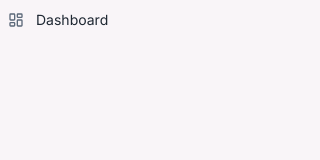
Test: SidebarNavItem › navigates on click and shows loading state
Click the menu item "Dashboard" at (58, 20), box [8,11,108,28]
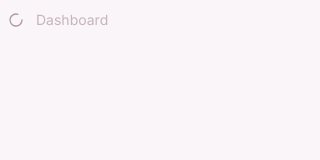
Expected: the menu item has attribute data-loading="true", [7,11,108,38]
